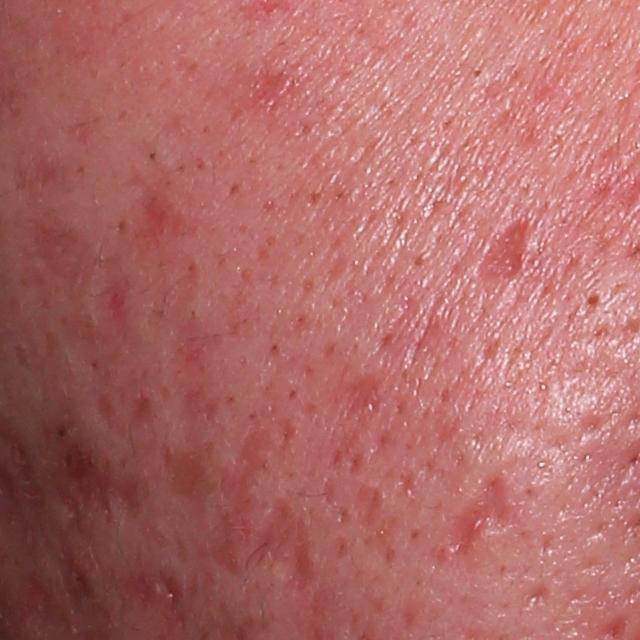atrophic_scar: (159, 406, 312, 593), (39, 344, 152, 533), (452, 472, 520, 568), (474, 213, 535, 283), (349, 485, 398, 570), (324, 367, 388, 425), (519, 584, 547, 608)
comedo: (585, 289, 604, 313), (144, 144, 161, 167)
